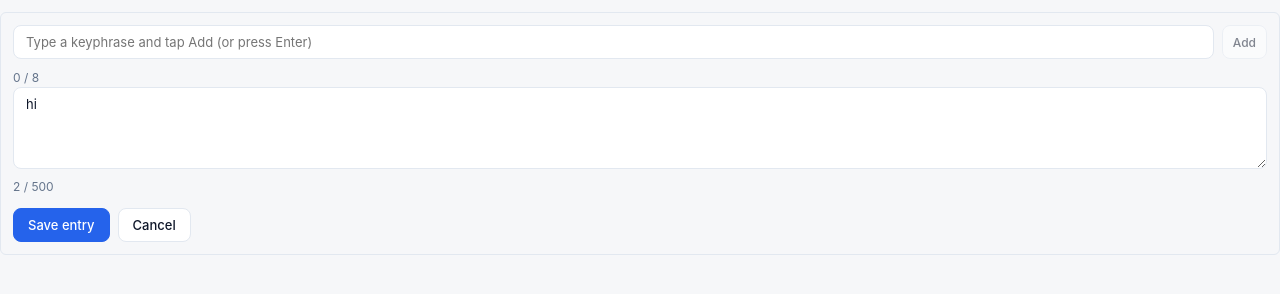
Test: JournalEntryForm keyphrase error feedback (H4) › rejects a 4-word keyphrase and shows the inline error
This screenshot has width=1280, height=294.
Type "one two three four" into the field with test id "keyphrase-input" at (613, 42), box [13,25,1214,59]
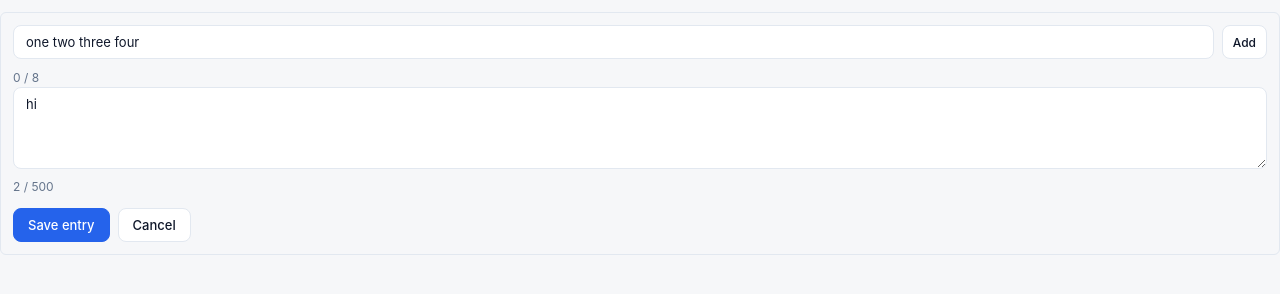
Click the button with test id "keyphrase-add" at (1244, 42), box [1222,25,1267,59]
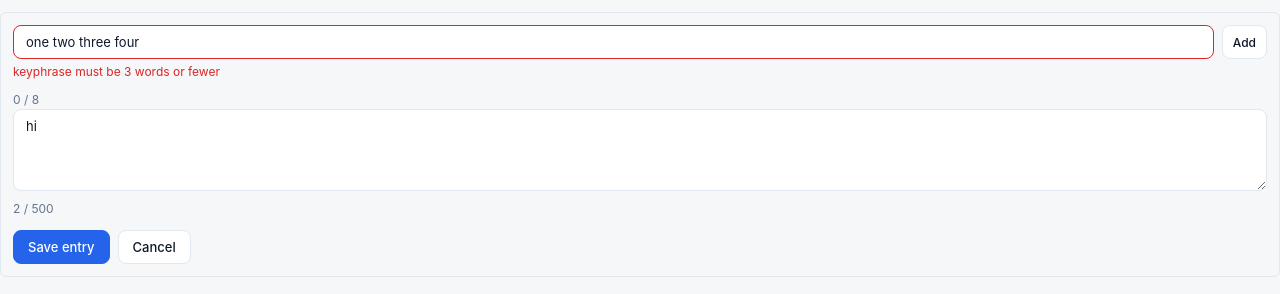
Check: the message with test id "keyphrase-error" shows "3 words", box [13,64,220,79]
